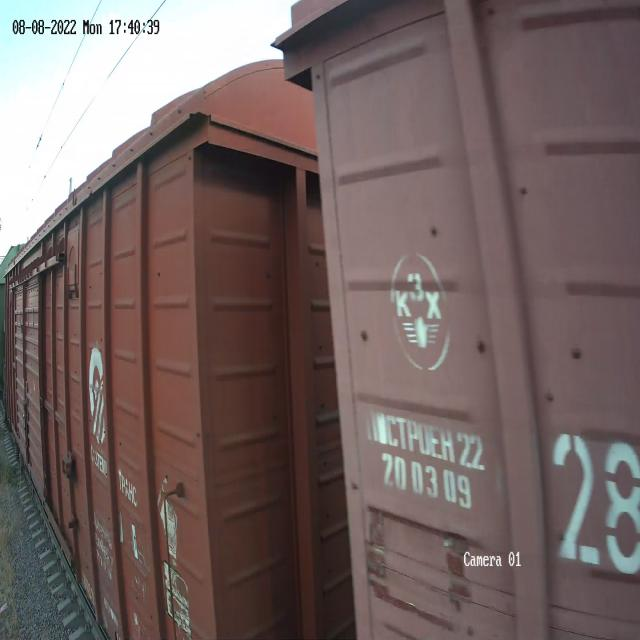boxcar: (266, 0, 640, 640), (1, 36, 345, 640)
